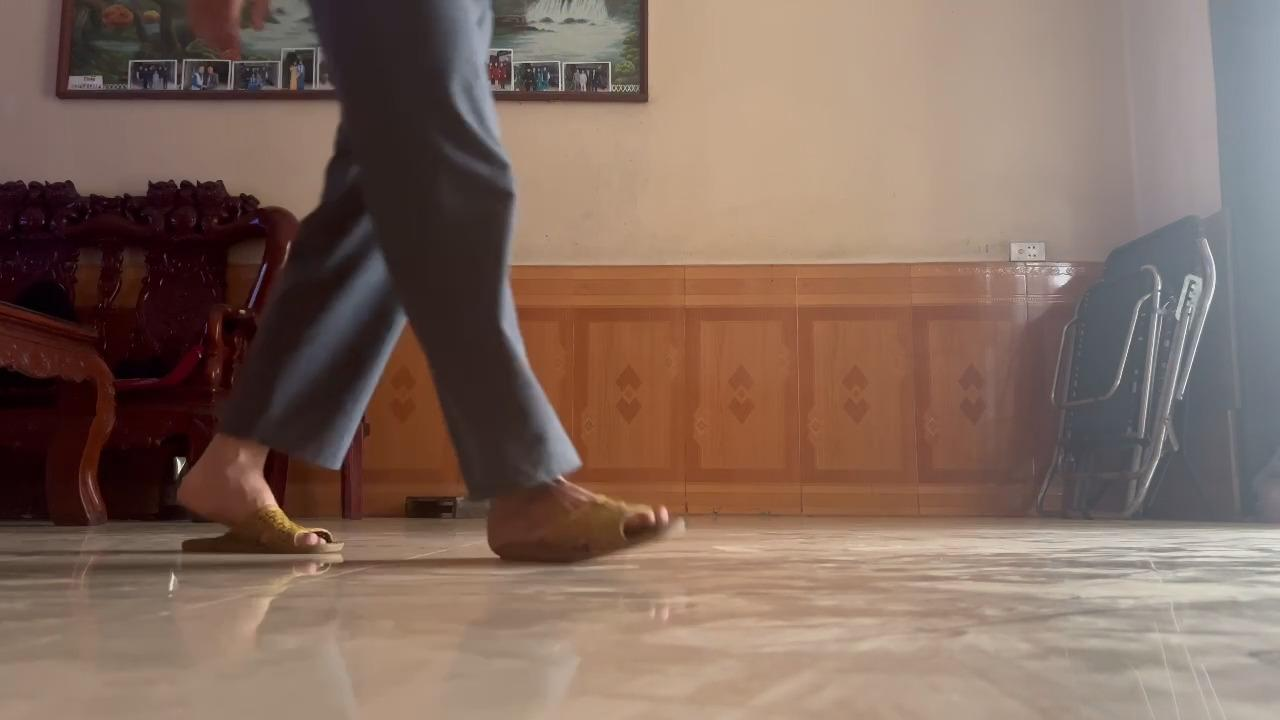no-boot: (172, 457, 356, 564), (473, 493, 692, 573)
